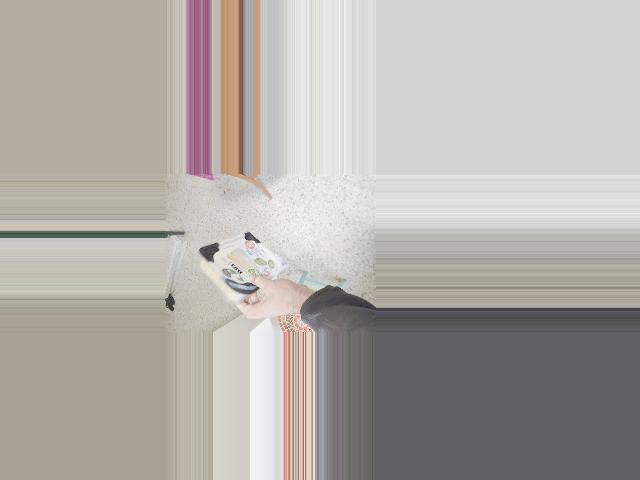cheese: (198, 221, 276, 326)
